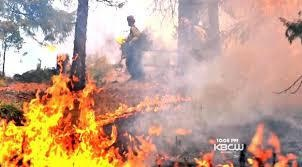fire: (247, 122, 299, 166)
